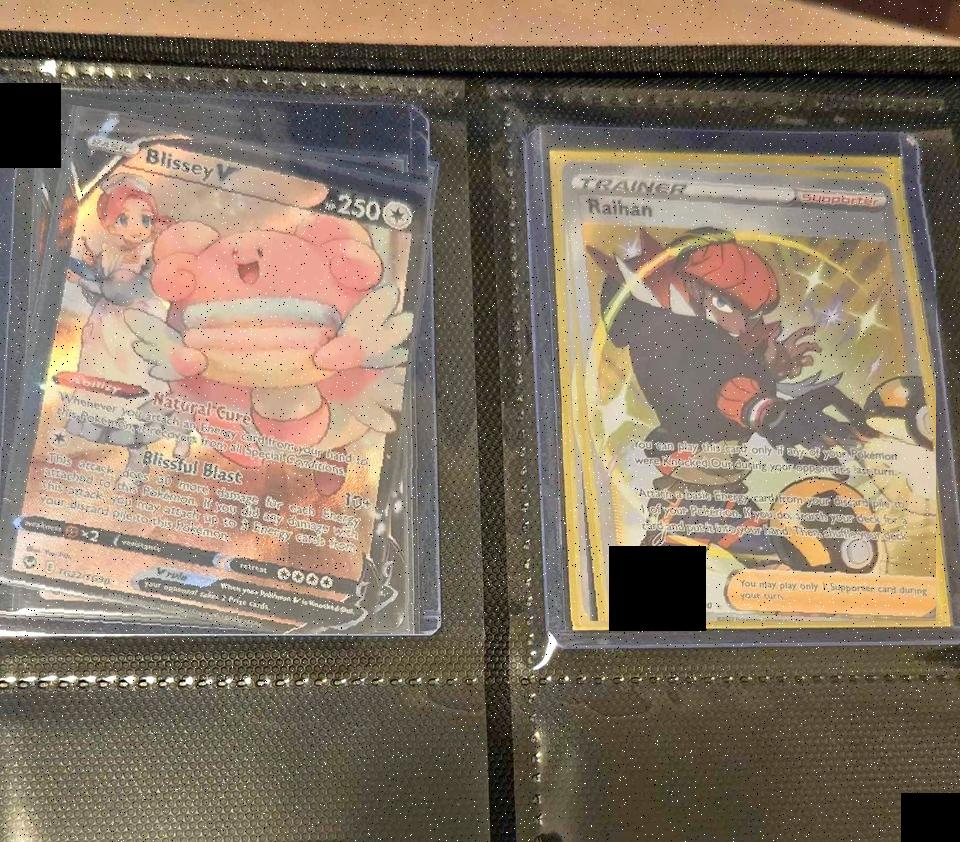card: (0, 114, 428, 634), (564, 160, 936, 621)
